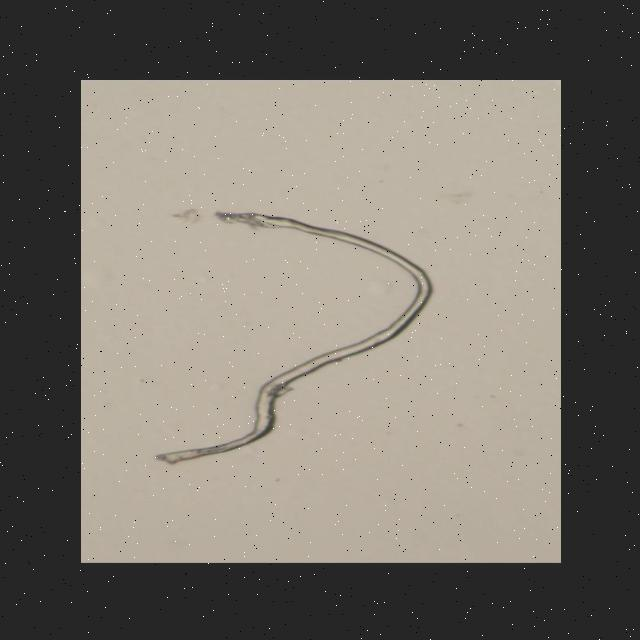Fibre: (152, 210, 434, 464)
